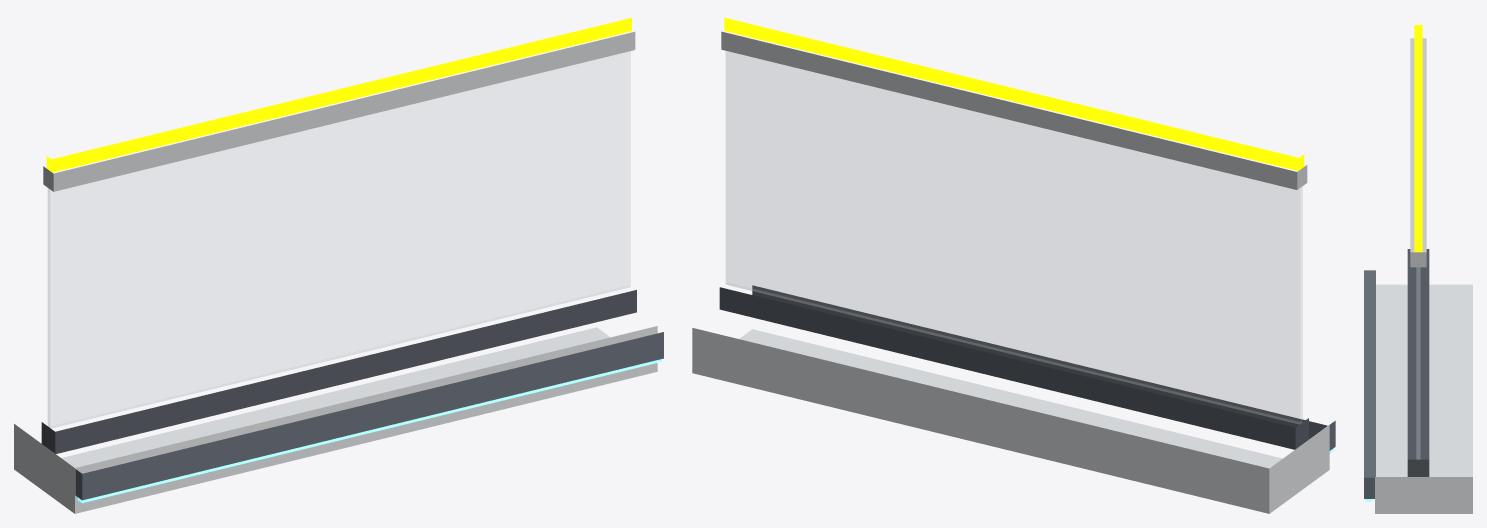
Rendered from ext_canal_edge_05.glb.
3 views of the same model, side by side, from view 1: azimuth 30°, elevation 25°; view 2: azimuth 150°, elevation 25°; view 3: azimuth 270°, elevation 25° (orthographic). The views are drawn at different scales.
Parts seen in each view (by area): view 1: Glass_Panel, Coping, Drip_Lip, Base_Channel, Handrail, Rail_Glow, Water_Glow; view 2: Glass_Panel, Coping, Base_Channel, Handrail, Rail_Glow, Drip_Lip; view 3: Coping, Base_Channel, Drip_Lip, Handrail, Rail_Glow, Glass_Panel.
Part boxes in pixels (x1,y1,x2,y2): Glass_Panel: (48, 51, 630, 428); Coping: (14, 326, 657, 513); Drip_Lip: (75, 332, 663, 500); Base_Channel: (41, 290, 636, 453); Handrail: (43, 31, 635, 191); Rail_Glow: (46, 18, 631, 172); Water_Glow: (77, 359, 662, 503); Glass_Panel: (726, 51, 1302, 424); Coping: (692, 328, 1329, 513); Base_Channel: (719, 287, 1308, 449); Handrail: (721, 31, 1307, 189); Rail_Glow: (724, 17, 1304, 170); Drip_Lip: (752, 285, 1335, 450); Coping: (1375, 284, 1472, 513); Base_Channel: (1407, 249, 1429, 476); Drip_Lip: (1364, 270, 1375, 498); Handrail: (1410, 38, 1426, 267); Rail_Glow: (1414, 25, 1422, 252); Glass_Panel: (1416, 267, 1420, 459).
Bounding box in the file's own units: 1.99 × 1.1 × 0.4.
